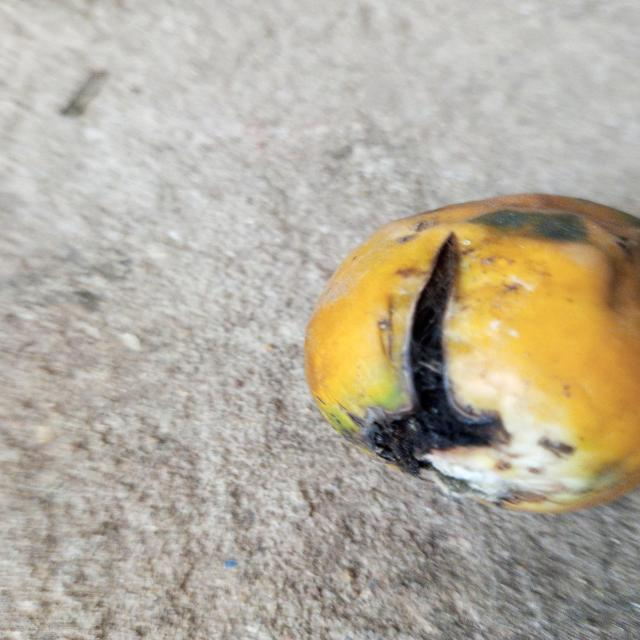damaged: (305, 194, 640, 512)
